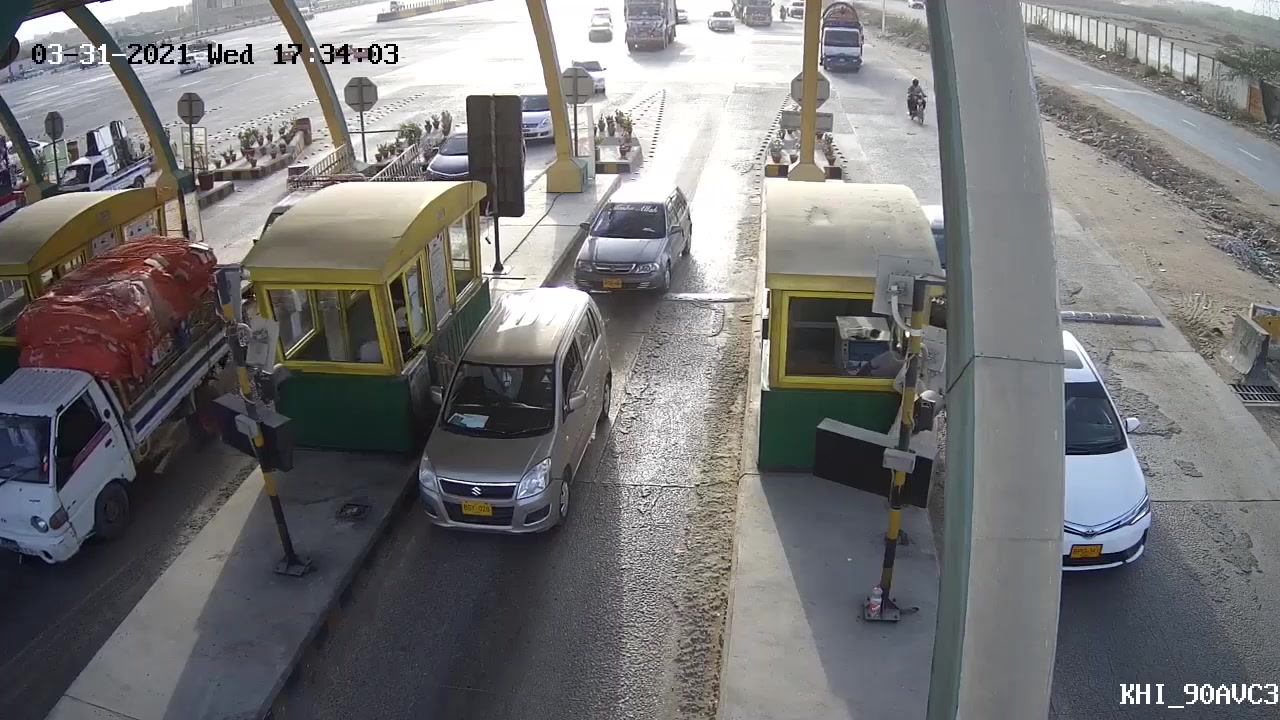F1: (416, 285, 618, 540)
